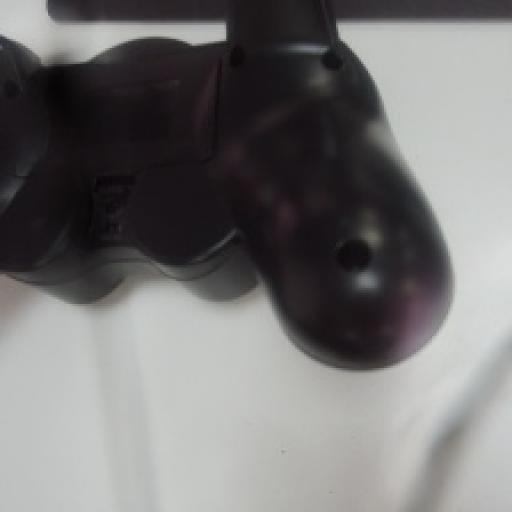game pad: (0, 0, 450, 368)
